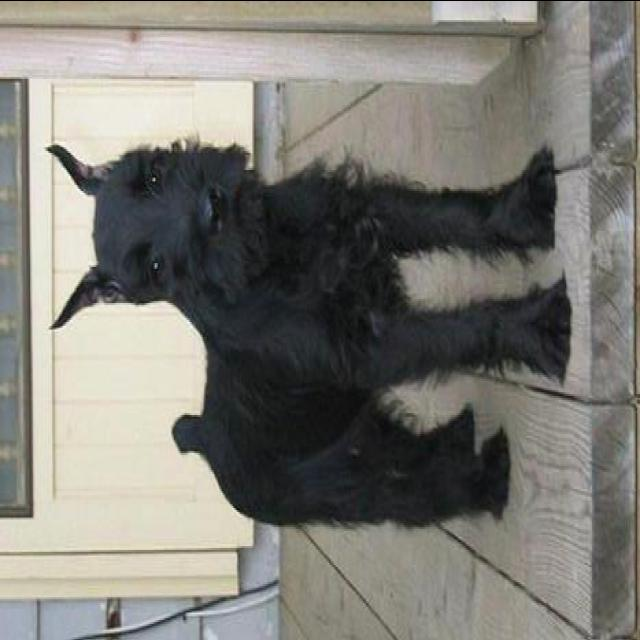standard_schnauzer: (45, 142, 570, 534)
